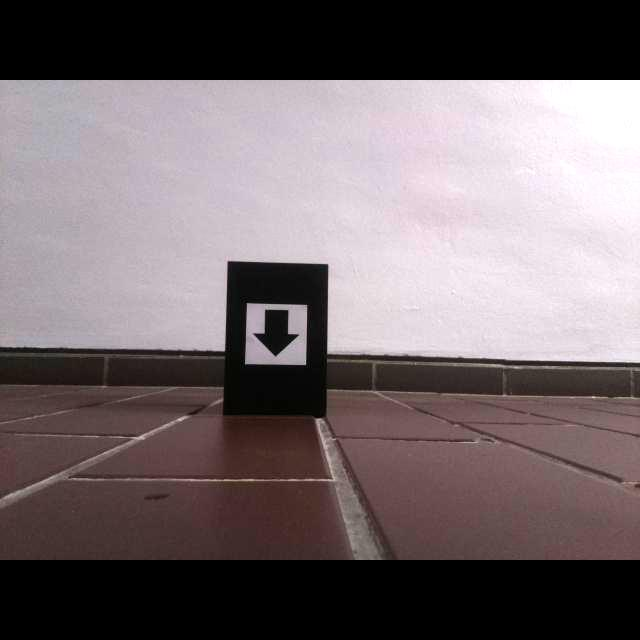DOWN: (252, 309, 301, 358)
